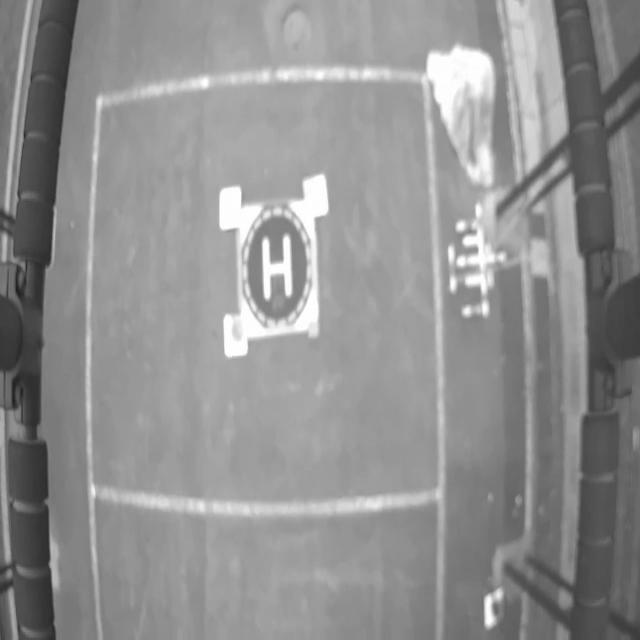Helipad: (262, 234, 293, 300)
